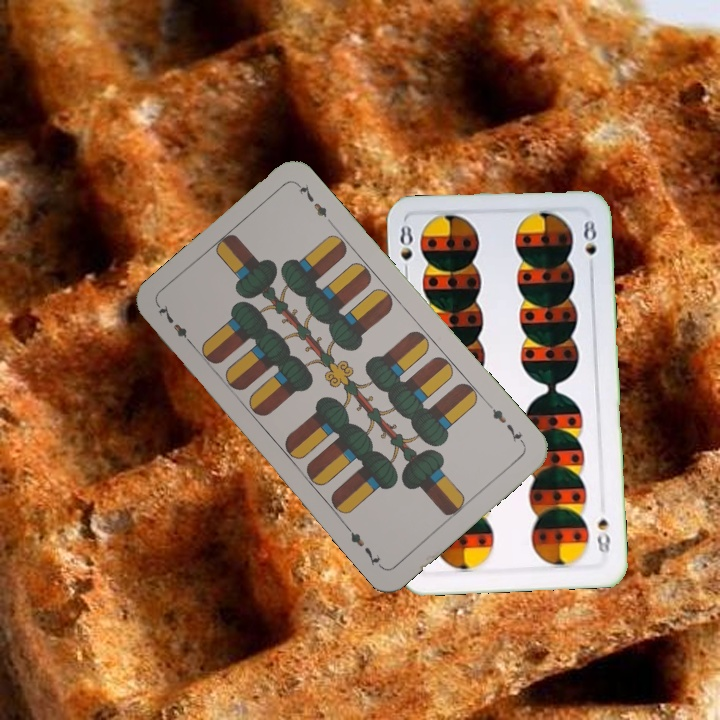E7: (154, 300, 198, 350), (488, 405, 528, 447)
S8: (395, 221, 416, 280), (592, 514, 613, 556)
